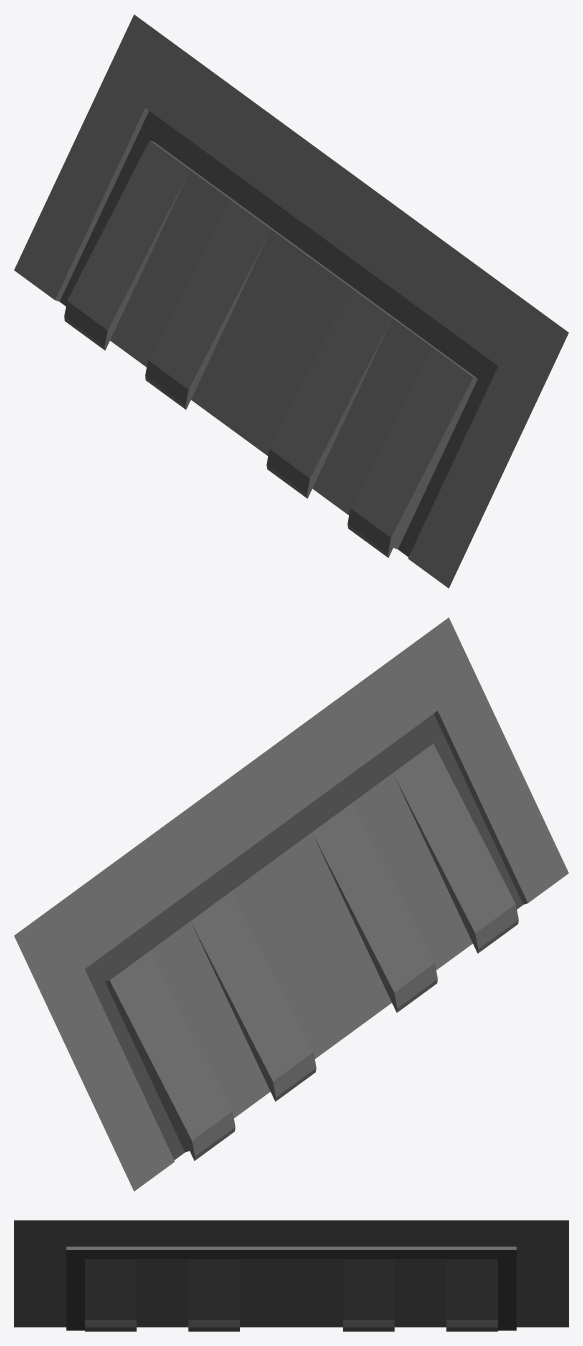
Rendered from Storage_Bay_Door_01.fbx.
3 renders of one model, top to bottom at view 1: azimuth 30°, elevation 25°; view 2: azimuth 150°, elevation 25°; view 3: azimuth 270°, elevation 25°, orthographic. The views are drawn at different scales.
Visible parts, largest first — view 1: Storage_Bay_Door_01; view 2: Storage_Bay_Door_01; view 3: Storage_Bay_Door_01.
Part boxes in pixels (x1,y1,x2,y2): Storage_Bay_Door_01: (14,14,568,588); Storage_Bay_Door_01: (14,617,568,1191); Storage_Bay_Door_01: (14,1220,568,1331).
Size of the model in its own units: 6.66 by 11.96 by 40.
